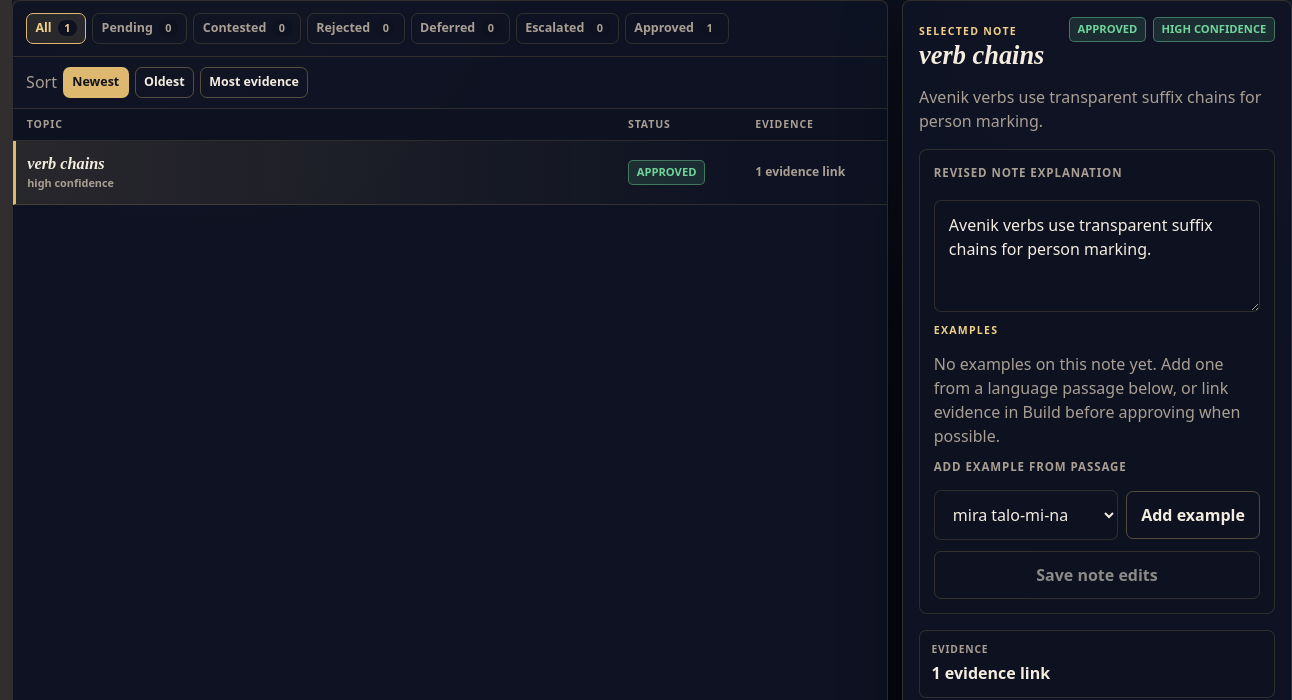
Scenario: ReviewView › lets reviewers add and remove examples, then save them with the explanation
The image size is (1292, 700).
Select "saku nemi-lo-ki" in the dropdown labelled "Add example from passage": (1026, 515) [934,490,1118,540]
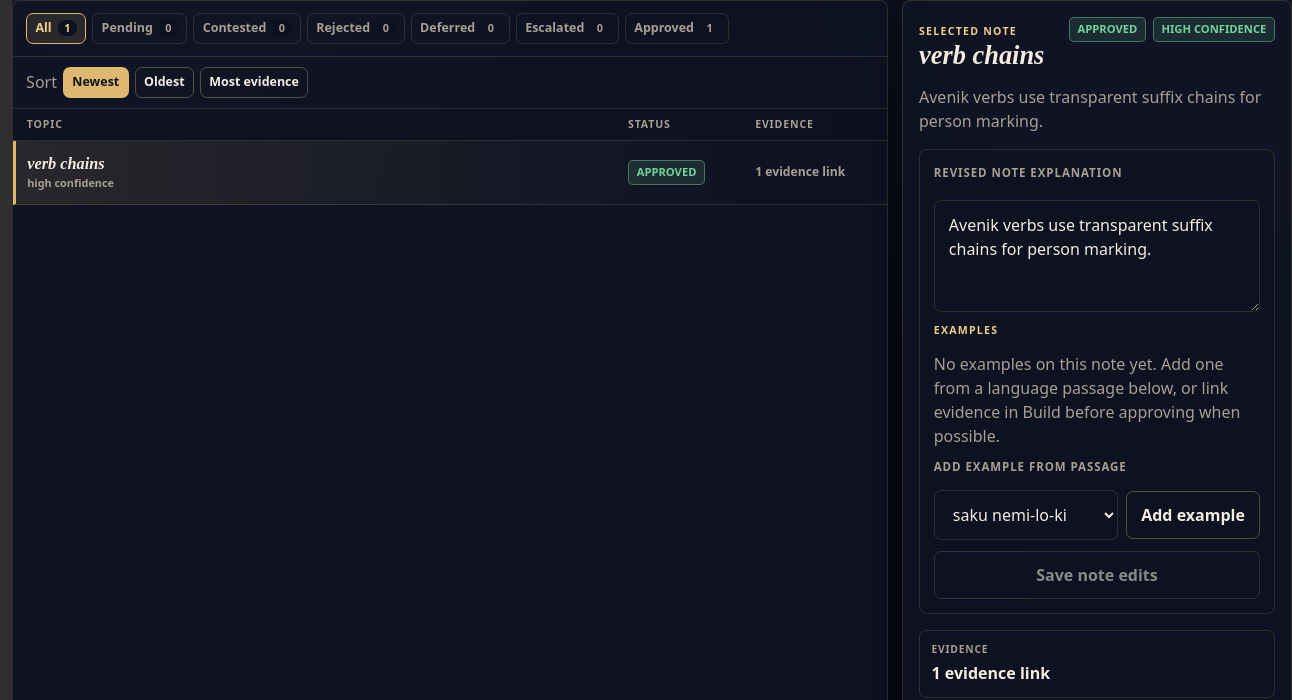
Click the button "Add example": (1193, 515) [1126,491,1260,539]
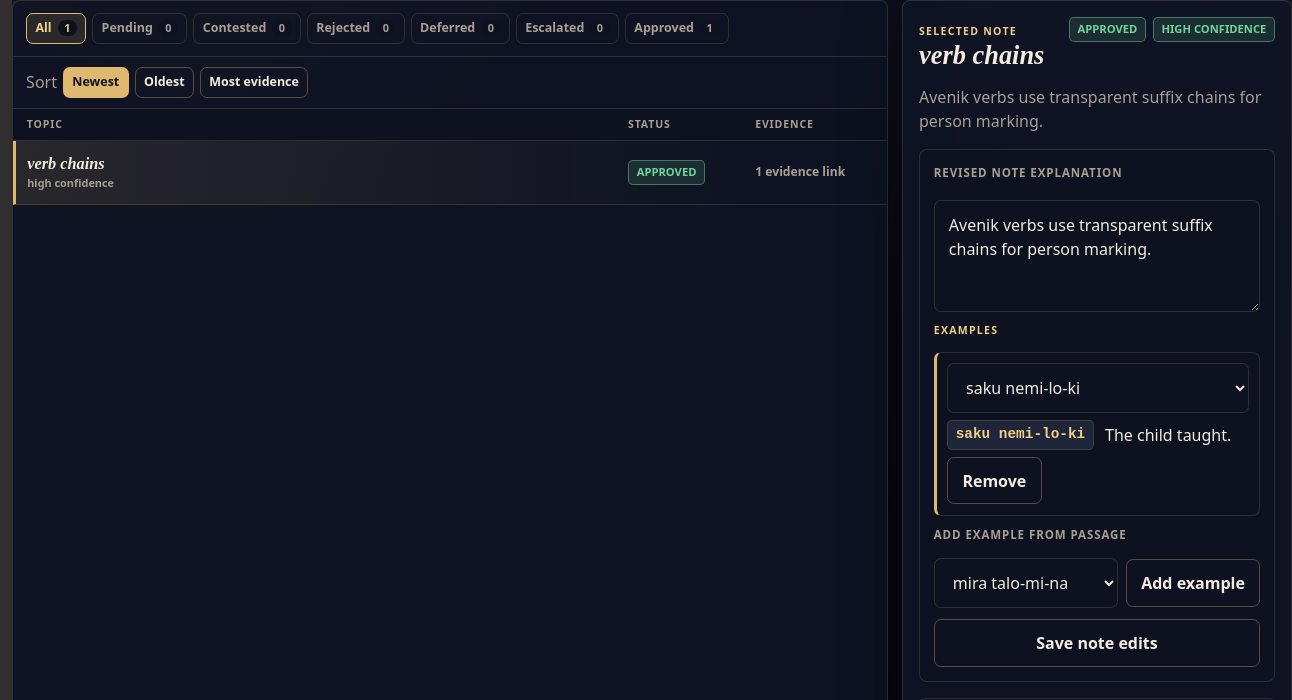
Now the text "The child taught." is shown, box [1105,423,1231,447]
Now the text "saku nemi-lo-ki" is shown, box [947,420,1094,450]
Now the button "Remove" is shown
Click the button "Remove": (994, 481) [947,457,1042,504]
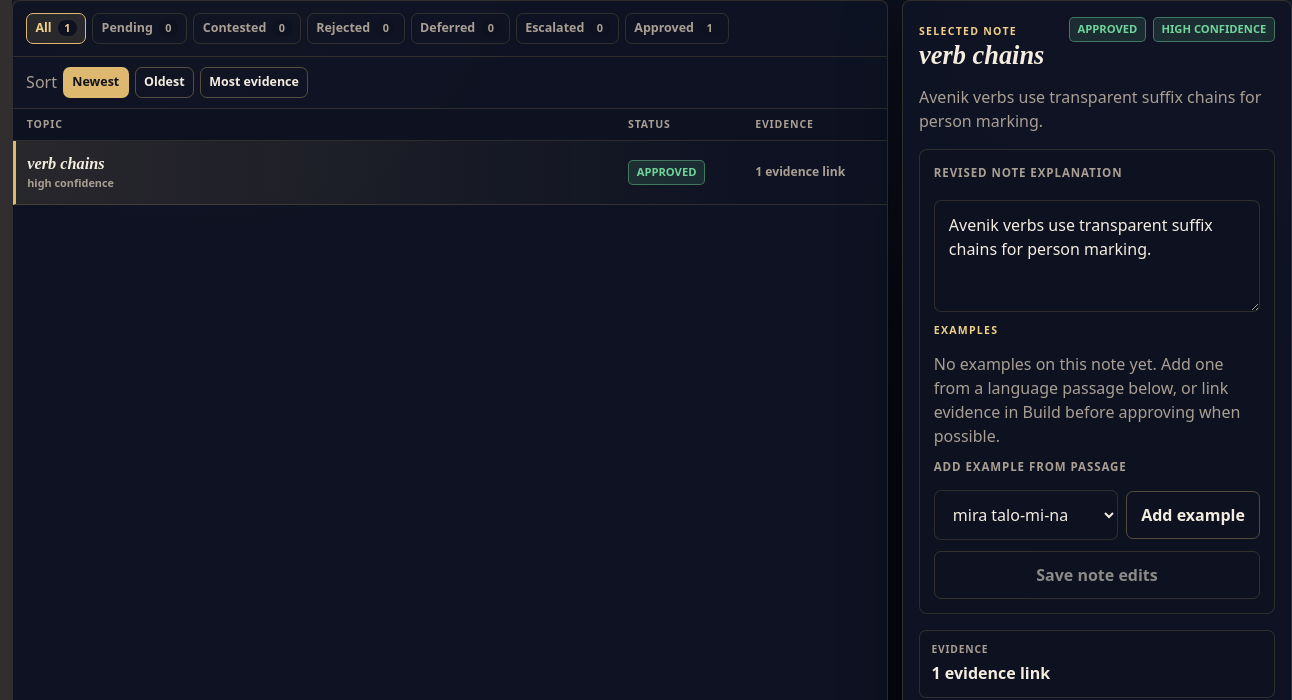
Now the button "Remove" is gone
Now the text "No examples on this note yet" is shown, box [934,353,1240,447]
Select "mira talo-mi-na" in the dropdown labelled "Add example from passage": (1026, 515) [934,490,1118,540]
Click the button "Add example": (1193, 515) [1126,491,1260,539]
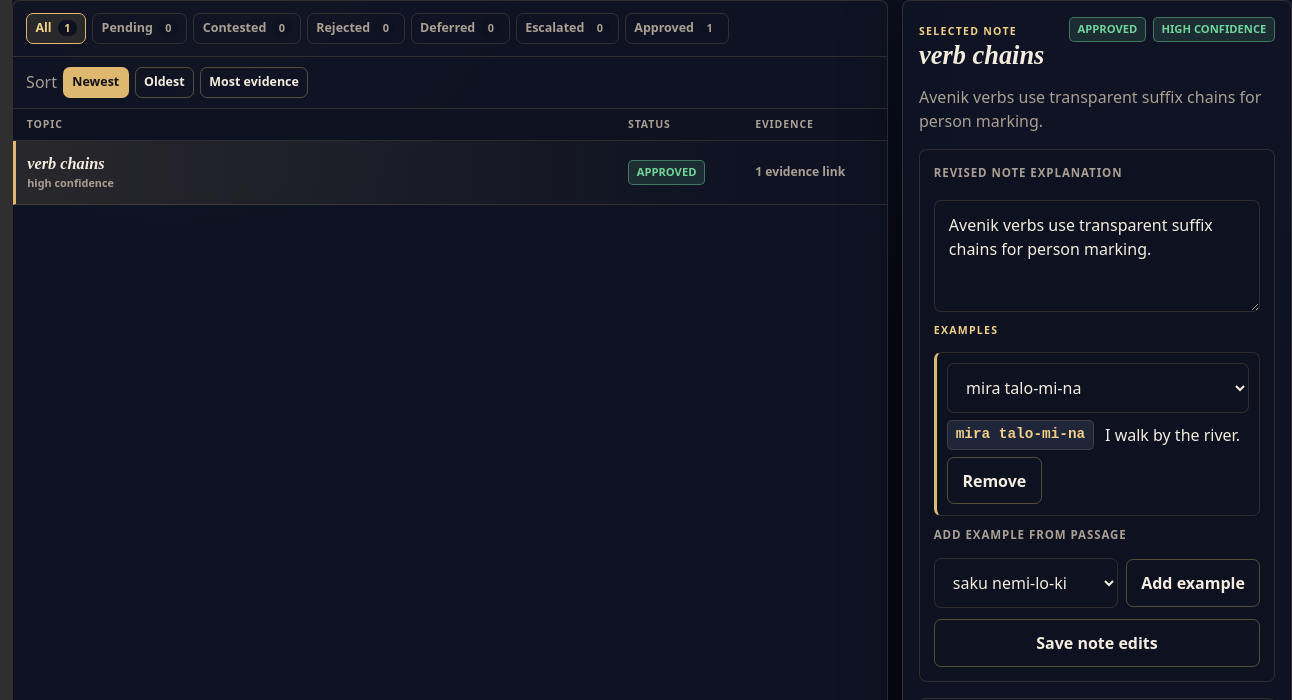
Now the button "Save note edits" is enabled
Click the button "Save note edits": (1097, 643) [934,619,1260,667]
(page scrolled)
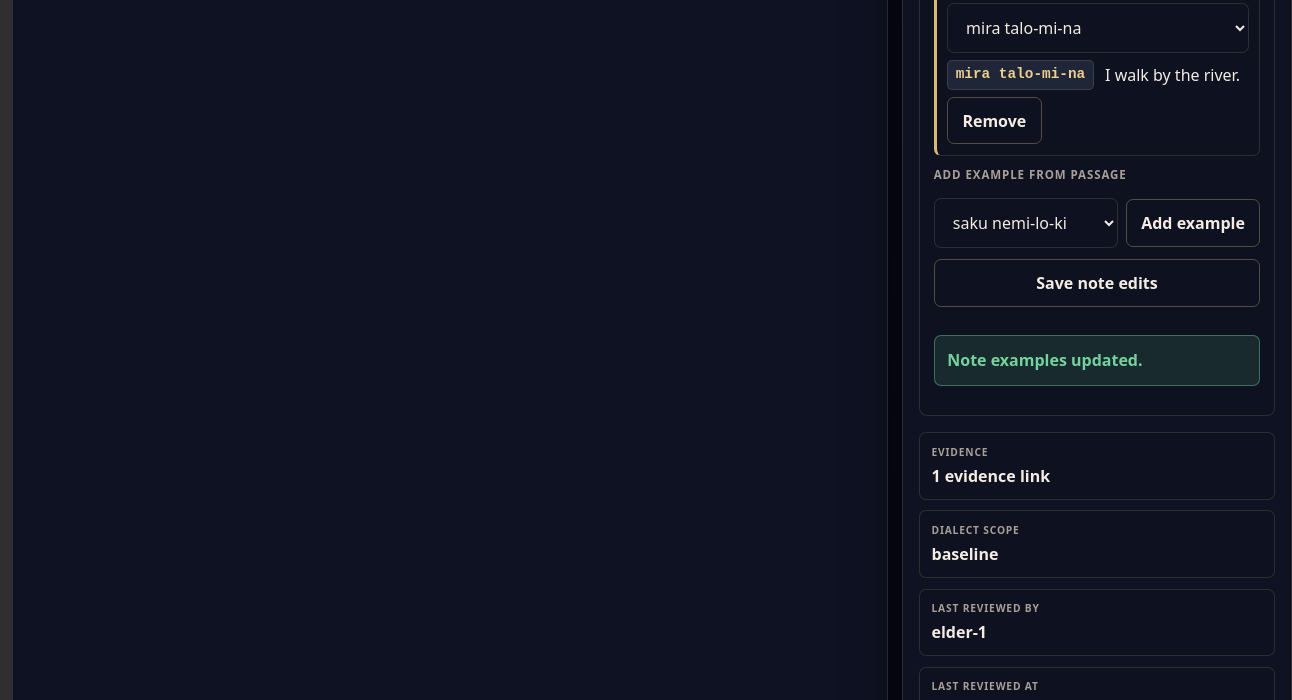
Now the text "Note examples updated." is shown, box [934,335,1260,386]
